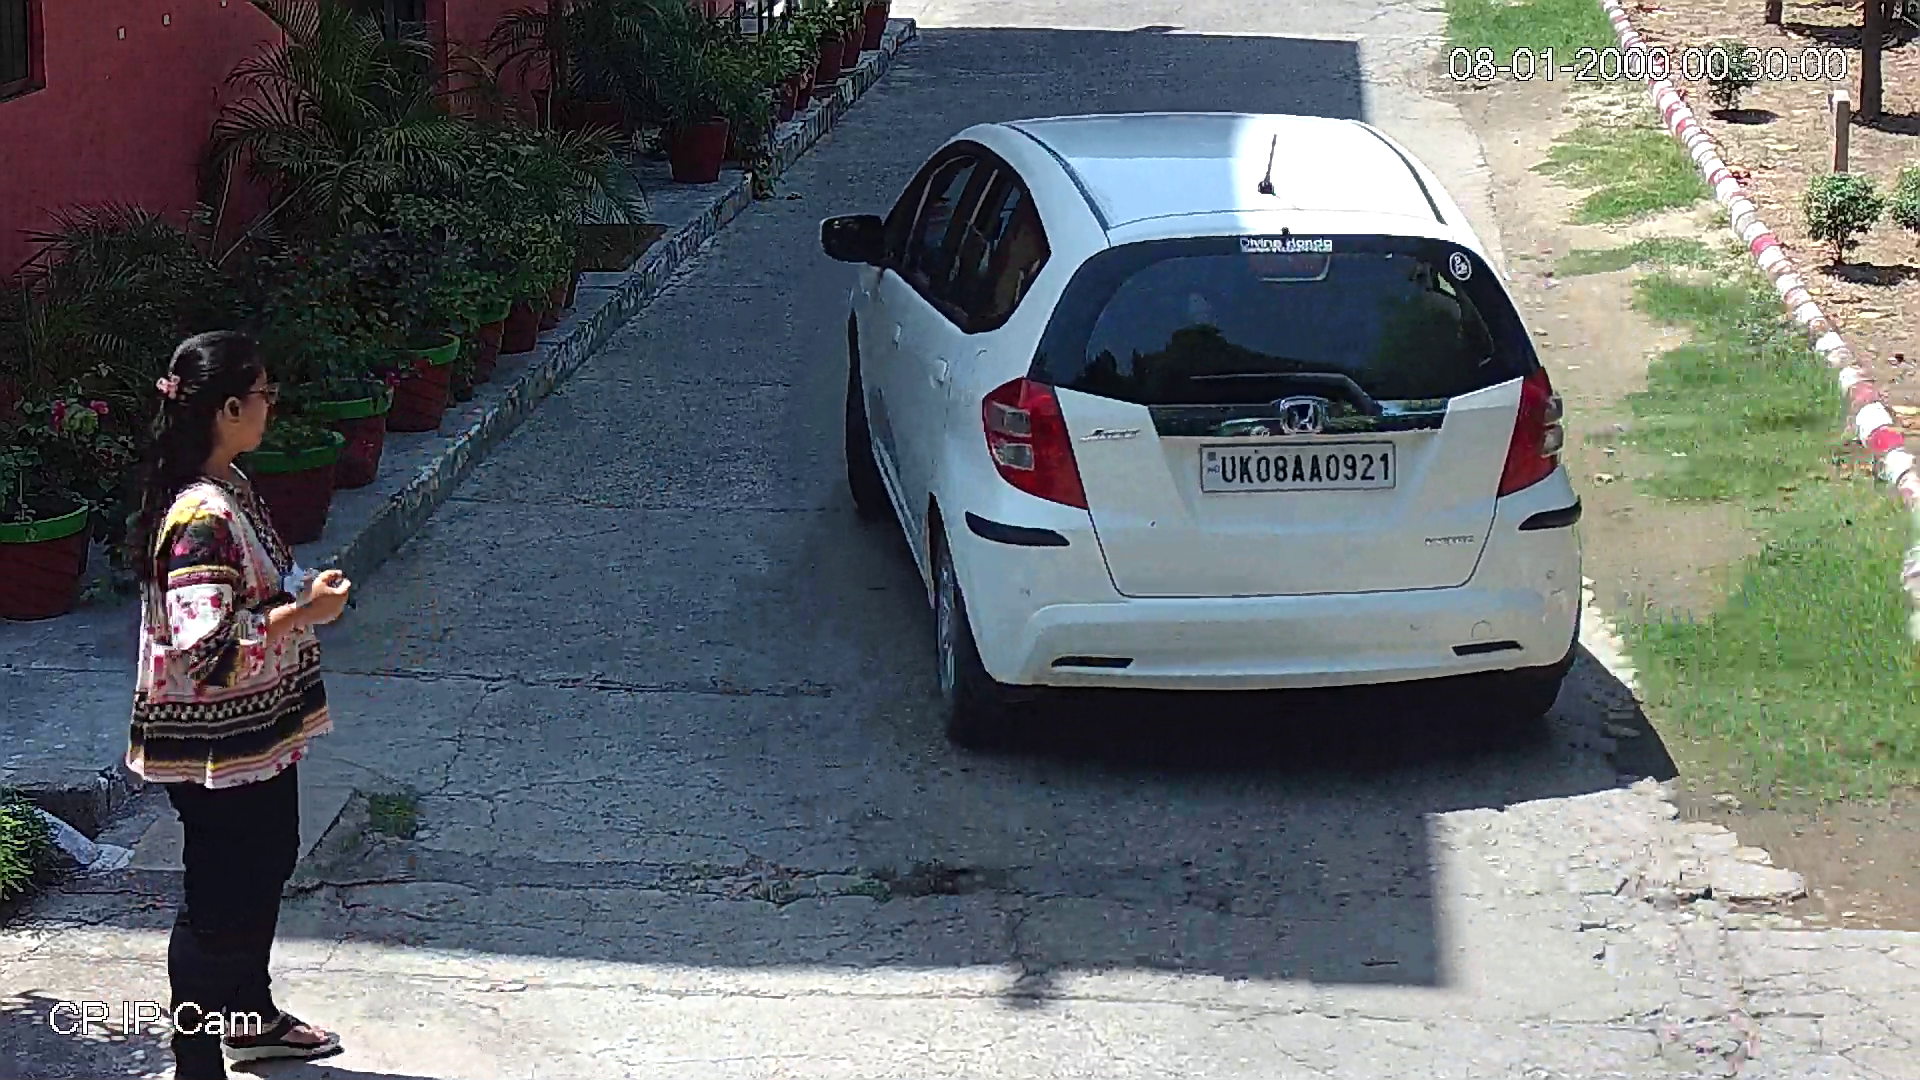plate: (1194, 430, 1406, 500)
